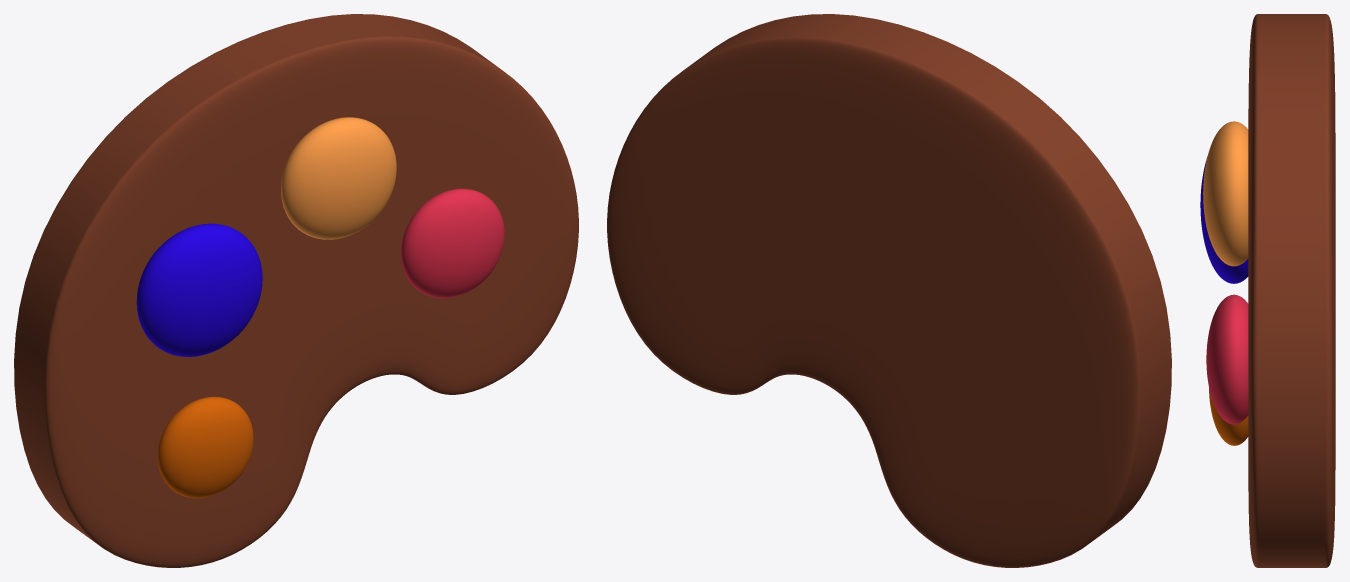
The model's file is pallete.fbx.
3 views of the same model, side by side, from view 1: azimuth 30°, elevation 25°; view 2: azimuth 150°, elevation 25°; view 3: azimuth 270°, elevation 25° (orthographic). The views are drawn at different scales.
Parts seen in each view (by area): view 1: Cube.004; view 2: Cube.004; view 3: Cube.004.
Part boxes in pixels (x1,y1,x2,y2): Cube.004: (14, 14, 578, 567); Cube.004: (607, 14, 1171, 567); Cube.004: (1200, 14, 1335, 567).
Bounding box in the file's own units: 193 × 170 × 38.
